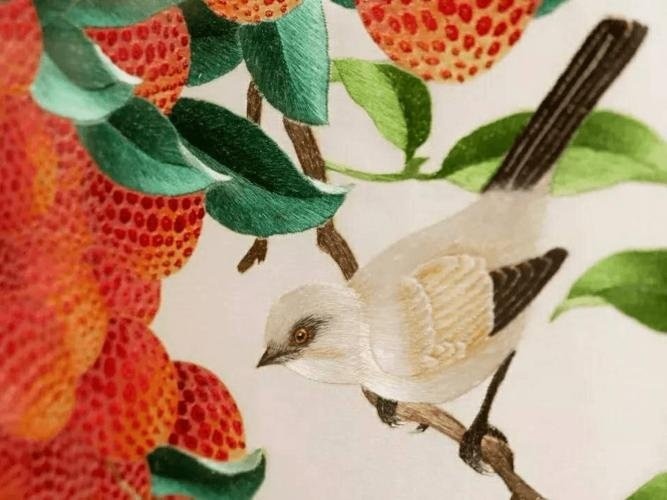bird: (250, 15, 649, 472)
lychee: (1, 391, 150, 500), (352, 1, 546, 82), (1, 238, 107, 379), (75, 315, 178, 450), (1, 87, 91, 227), (85, 173, 206, 276), (82, 1, 189, 114), (151, 359, 247, 461), (77, 246, 160, 321), (1, 1, 43, 100), (195, 1, 312, 23)
